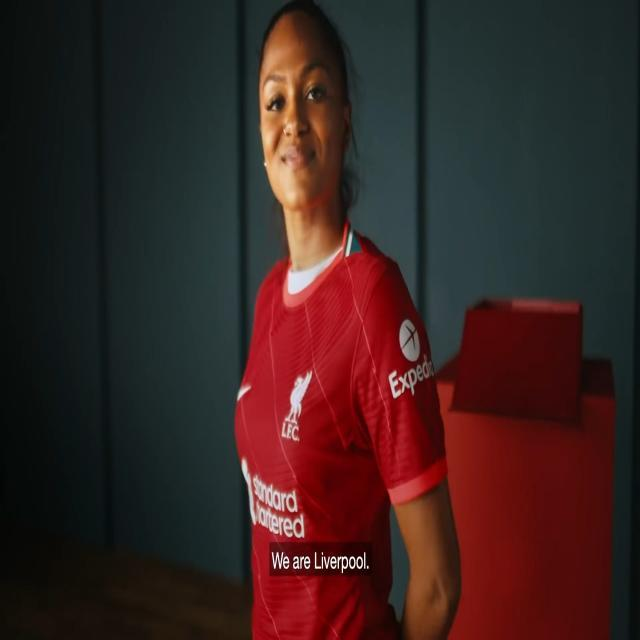Standard Chartered: (242, 458, 306, 542)
